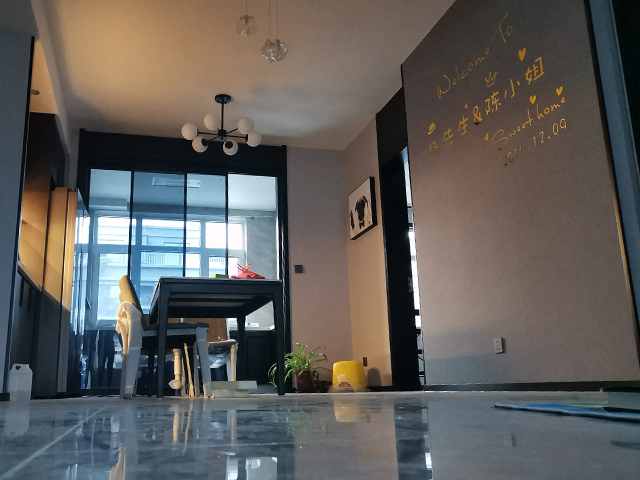cabinet: (228, 325, 279, 393)
carpet: (491, 400, 640, 423)
stool: (114, 274, 213, 401), (329, 358, 368, 392)
table: (146, 274, 288, 397)
